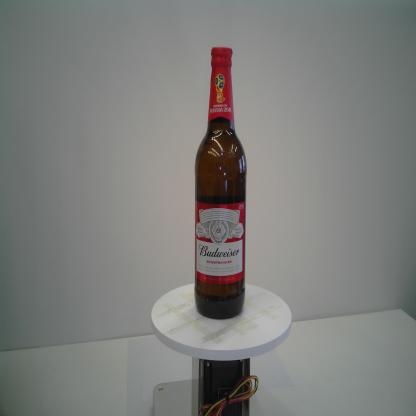Alcohol: (192, 44, 247, 319)
